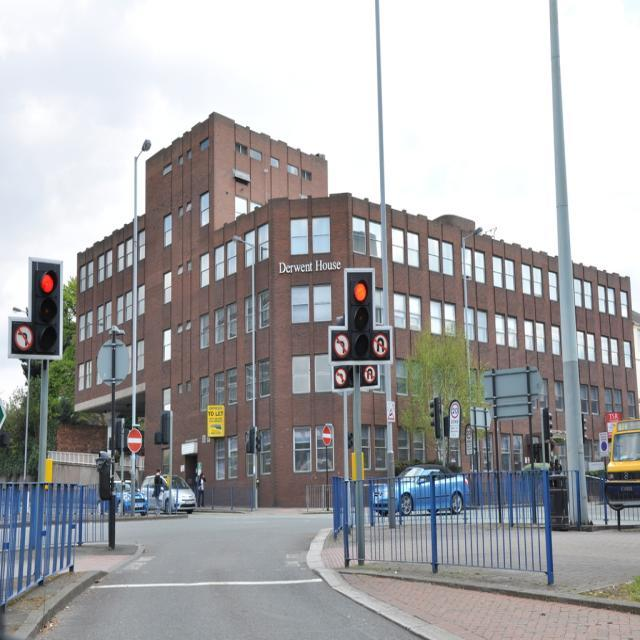traffic light: (324, 273, 394, 362), (32, 264, 65, 357)
